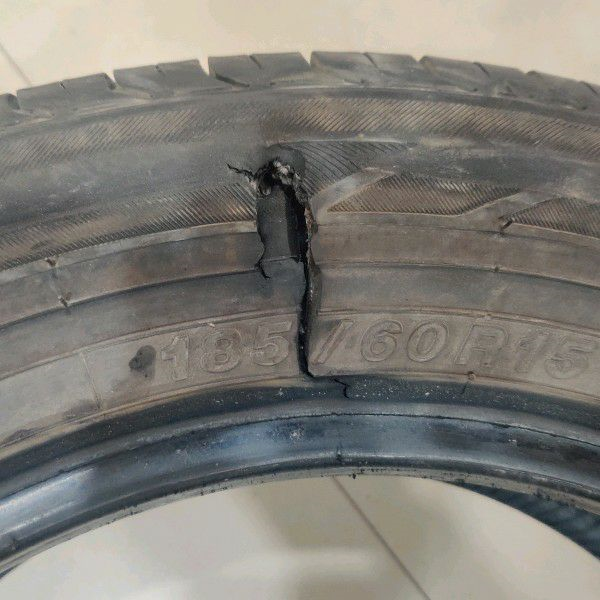cut: (227, 156, 354, 403)
